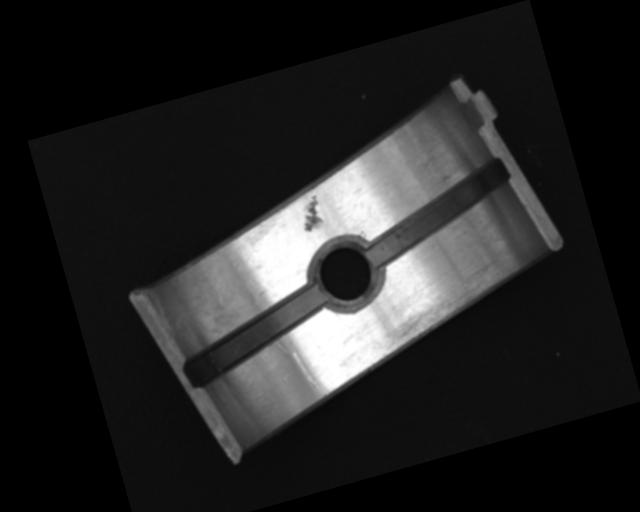bruise: (296, 193, 327, 234)
gap: (353, 155, 521, 270), (171, 283, 337, 388)
hole: (299, 230, 390, 317)
nick: (293, 345, 331, 402)
scratch: (319, 252, 528, 380)
